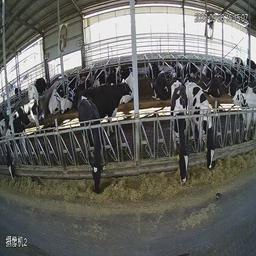cow: (73, 92, 106, 203), (188, 78, 216, 171), (169, 80, 192, 193), (3, 108, 28, 195), (91, 78, 134, 123), (232, 82, 254, 148), (150, 60, 171, 101), (26, 81, 42, 117), (206, 68, 224, 100), (49, 82, 61, 117), (61, 84, 72, 112), (231, 51, 246, 71)
